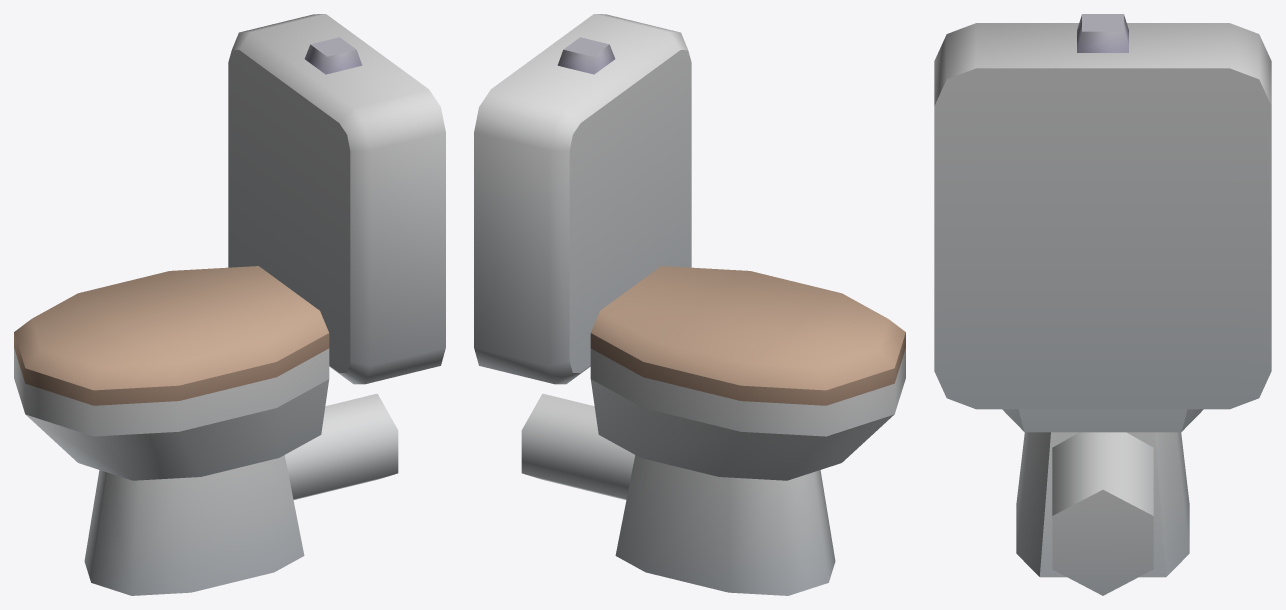
Rendered from toilet-rounded.glb.
3 views of the same model, side by side, from view 1: azimuth 30°, elevation 25°; view 2: azimuth 150°, elevation 25°; view 3: azimuth 270°, elevation 25° (orthographic). The views are drawn at different scales.
Parts seen in each view (by area): view 1: toilet-rounded; view 2: toilet-rounded; view 3: toilet-rounded.
Part boxes in pixels (box(x1,y1,x2,y2)): toilet-rounded: box(14, 14, 445, 595); toilet-rounded: box(474, 14, 905, 595); toilet-rounded: box(934, 14, 1271, 595).
Size of the model in its own units: 0.6833 by 0.8835 by 0.4594.
